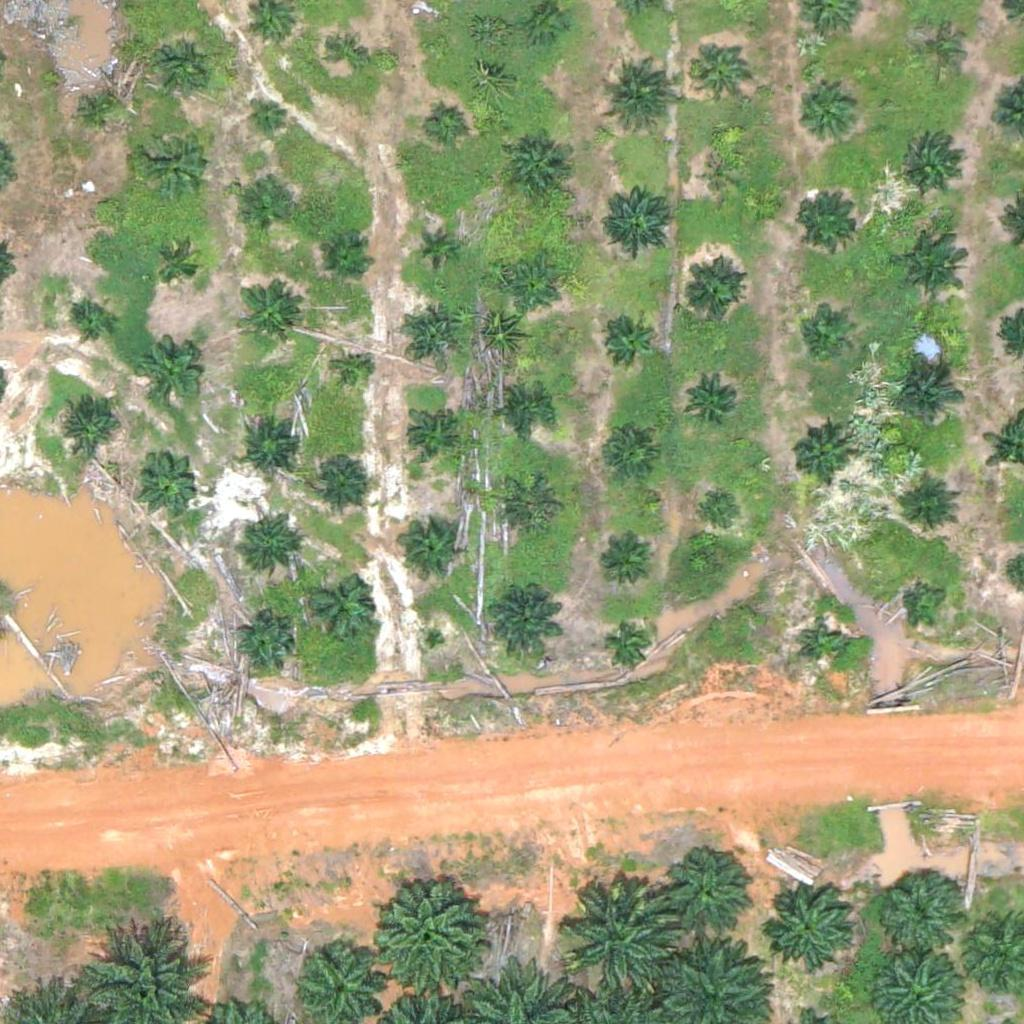Kelapa_Sawit: (561, 874, 686, 1000), (367, 877, 480, 991), (874, 865, 961, 953), (665, 855, 752, 943), (763, 881, 850, 969), (139, 120, 214, 196), (893, 229, 968, 305), (486, 582, 561, 658), (300, 569, 375, 645), (598, 63, 673, 138), (600, 177, 675, 252), (891, 361, 966, 436), (399, 299, 462, 362), (136, 340, 199, 403), (680, 261, 743, 324), (685, 368, 748, 431), (233, 517, 296, 580), (132, 449, 195, 512), (400, 518, 463, 581), (232, 614, 295, 677), (899, 479, 962, 542), (791, 427, 854, 490), (235, 281, 297, 344), (503, 137, 565, 200), (150, 37, 212, 100), (798, 191, 860, 254), (901, 133, 963, 196), (800, 86, 862, 149), (690, 40, 752, 103), (499, 477, 561, 540), (55, 394, 117, 457), (240, 419, 302, 481), (307, 447, 369, 509), (505, 264, 555, 315), (600, 315, 650, 366), (604, 428, 654, 479), (904, 577, 954, 628), (798, 619, 848, 670), (697, 486, 747, 537), (500, 386, 550, 436), (234, 187, 284, 237), (799, 309, 849, 359), (599, 539, 649, 589), (404, 409, 454, 459), (914, 26, 964, 76), (605, 620, 655, 670), (320, 234, 370, 284), (151, 243, 201, 293), (66, 300, 116, 350), (74, 83, 124, 133), (336, 355, 374, 393), (249, 98, 287, 136), (330, 34, 368, 72), (529, 8, 566, 46), (704, 157, 741, 195), (415, 230, 452, 268), (429, 106, 467, 143), (90, 193, 115, 218)
